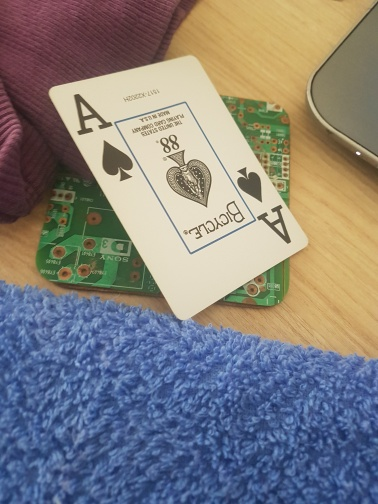ace: (49, 56, 310, 320)
